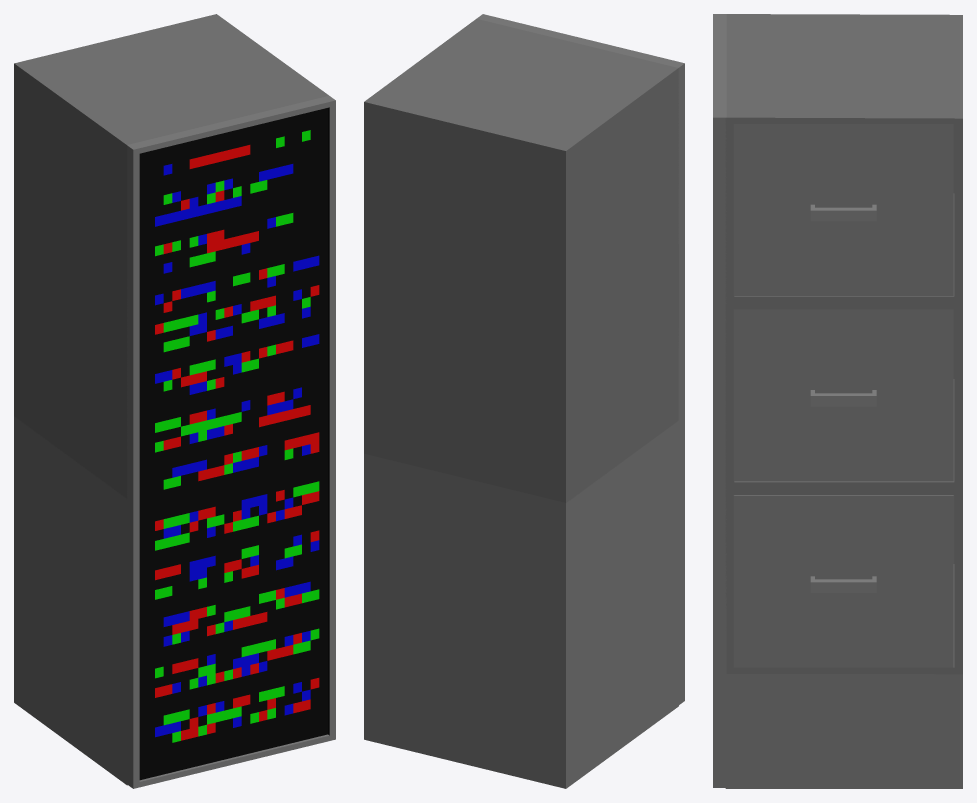
The model's file is DatabaseV02.fbx.
3 views of the same model, side by side, from view 1: azimuth 30°, elevation 25°; view 2: azimuth 150°, elevation 25°; view 3: azimuth 270°, elevation 25° (orthographic). The views are drawn at different scales.
Parts seen in each view (by area): view 1: DatabaseEffects, Cabinet2, Cabinet1, Cabinet, Base; view 2: Cabinet2, Cabinet, Cabinet1, Base, DatabaseEffects; view 3: Drawer1, Drawer, Drawer1.001, Cabinet2, Base, DatabaseEffects, Cabinet1, Cabinet, Handle.002, Handle, Handle.001.
Part boxes in pixels (x1,y1,x2,y2): DatabaseEffects: [127, 95, 335, 788]; Cabinet2: [14, 14, 328, 321]; Cabinet1: [14, 240, 127, 498]; Cabinet: [14, 416, 127, 675]; Base: [14, 593, 127, 785]; Cabinet2: [364, 18, 678, 326]; Cabinet: [364, 421, 678, 679]; Cabinet1: [364, 244, 678, 502]; Base: [364, 597, 678, 788]; DatabaseEffects: [477, 14, 684, 704]; Drawer1: [733, 309, 953, 481]; Drawer: [733, 495, 953, 667]; Drawer1.001: [733, 124, 953, 295]; Cabinet2: [725, 14, 962, 304]; Base: [725, 674, 962, 788]; DatabaseEffects: [713, 14, 726, 787]; Cabinet1: [725, 303, 962, 488]; Cabinet: [725, 488, 962, 674]; Handle.002: [810, 204, 876, 221]; Handle: [810, 576, 876, 592]; Handle.001: [810, 390, 876, 406].
Bounding box in the file's own units: 409 × 1165 × 393.
